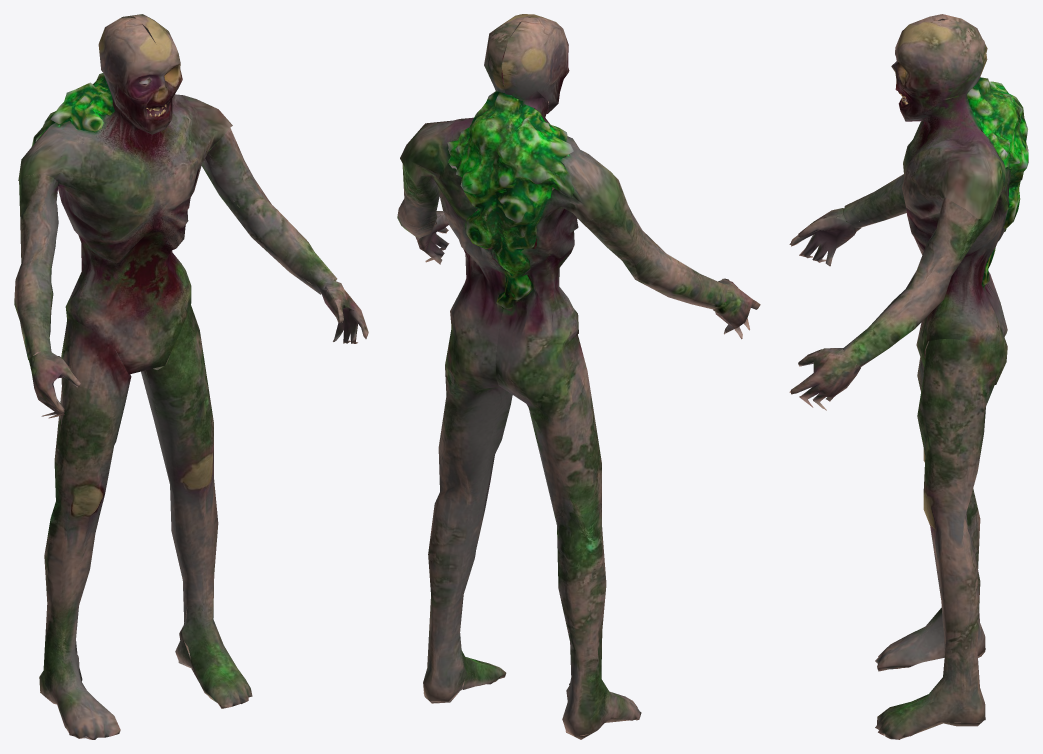
The model's file is spitter.glb.
The picture shows the model from 3 angles, left to right: view 1: azimuth 30°, elevation 25°; view 2: azimuth 150°, elevation 25°; view 3: azimuth 270°, elevation 25°; orthographic projection. The views are drawn at different scales.
Visible parts, largest first — view 1: posed_spitter; view 2: posed_spitter; view 3: posed_spitter.
Boxes of the visible parts, x1,y1,x2,y2 form: posed_spitter: (14, 14, 368, 739); posed_spitter: (397, 14, 760, 739); posed_spitter: (789, 14, 1028, 739).
Bounding box in the file's own units: 0.9813 × 1.99 × 0.6356.
1 material, 1 textured.
